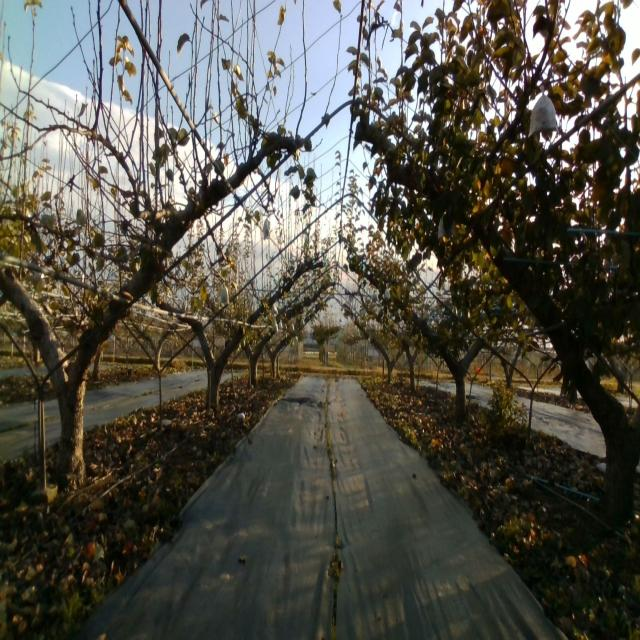pearbags: (528, 84, 560, 136), (218, 281, 230, 305)
